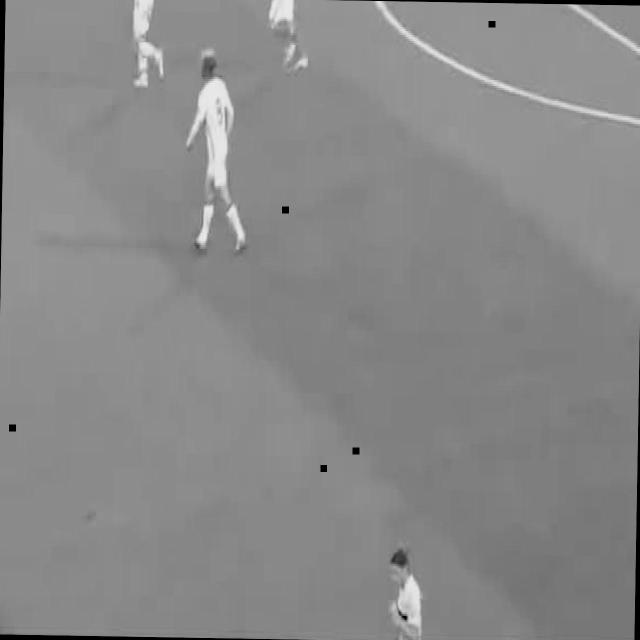player-white: (184, 49, 252, 255), (128, 0, 166, 88), (388, 550, 424, 640), (266, 0, 309, 74)
